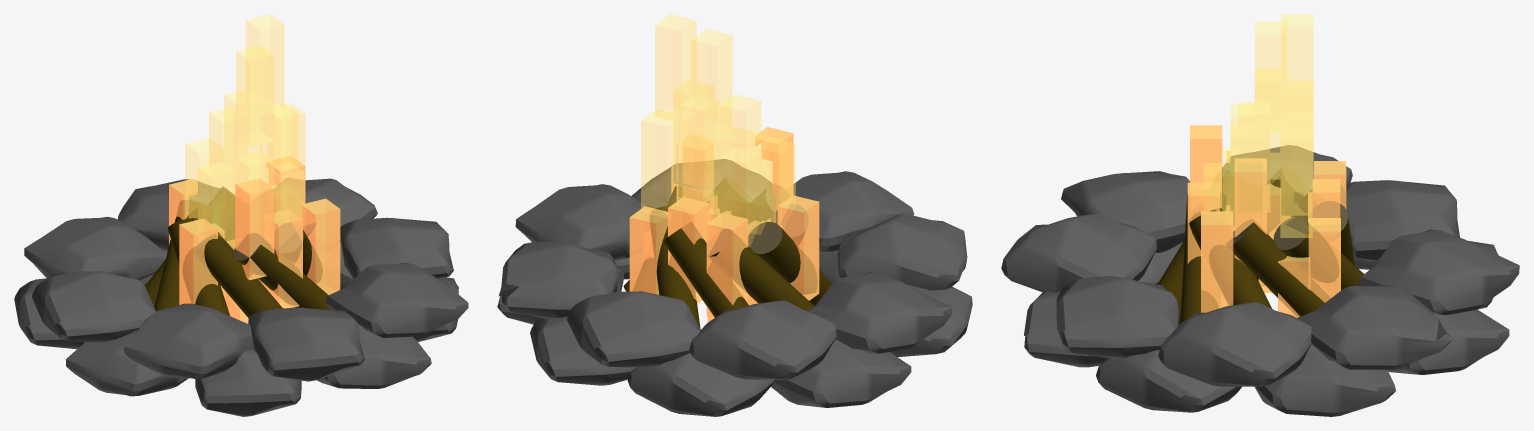
The model's file is campfire.fbx.
3 renders of one model, left to right at view 1: azimuth 30°, elevation 25°; view 2: azimuth 150°, elevation 25°; view 3: azimuth 270°, elevation 25°, orthographic. The views are drawn at different scales.
Visible parts, largest first — view 1: pCube27, pCube26, pCube23, pCube28, pCube25, pCube29, pCube13, pCube21, pCube15, pCube37, pCube30, pCylinder7 (+25 smaller); view 2: pCube25, pCube22, pCube28, pCube26, pCube24, pCube29, pCube19, pCube20, pCube23, pCube32, pCube37, pCube30 (+26 smaller); view 3: pCube29, pCube24, pCube23, pCube27, pCube22, pCube25, pCube26, pCube17, pCube16, pCylinder9, pCube30, pCube38 (+28 smaller).
Boxes of the visible parts, x1=… form: pCube27: x1=325, y1=262, x2=468, y2=337; pCube26: x1=123, y1=303, x2=253, y2=378; pCube23: x1=248, y1=307, x2=364, y2=381; pCube28: x1=32, y1=271, x2=155, y2=342; pCube25: x1=24, y1=216, x2=166, y2=280; pCube29: x1=340, y1=217, x2=453, y2=279; pCube13: x1=195, y1=348, x2=301, y2=416; pCube21: x1=66, y1=330, x2=188, y2=396; pCube15: x1=317, y1=324, x2=431, y2=388; pCube37: x1=236, y1=45, x2=274, y2=146; pCube30: x1=246, y1=14, x2=284, y2=115; pCylinder7: x1=234, y1=233, x2=330, y2=309; pCube25: x1=689, y1=300, x2=836, y2=379; pCube22: x1=567, y1=291, x2=700, y2=367; pCube28: x1=809, y1=272, x2=952, y2=353; pCube26: x1=837, y1=214, x2=967, y2=290; pCube24: x1=501, y1=241, x2=617, y2=318; pCube29: x1=515, y1=184, x2=646, y2=260; pCube19: x1=627, y1=353, x2=773, y2=416; pCube20: x1=771, y1=339, x2=911, y2=407; pCube23: x1=793, y1=171, x2=914, y2=251; pCube32: x1=678, y1=94, x2=719, y2=202; pCube37: x1=691, y1=29, x2=732, y2=137; pCube30: x1=655, y1=14, x2=696, y2=122; pCube29: x1=1158, y1=302, x2=1311, y2=386; pCube24: x1=1297, y1=285, x2=1452, y2=369; pCube23: x1=1001, y1=213, x2=1156, y2=292; pCube27: x1=1056, y1=276, x2=1178, y2=359; pCube22: x1=1358, y1=229, x2=1519, y2=314; pCube25: x1=1346, y1=180, x2=1459, y2=261; pCube26: x1=1061, y1=171, x2=1189, y2=252; pCube17: x1=1254, y1=344, x2=1395, y2=416; pCube16: x1=1096, y1=350, x2=1241, y2=412; pCylinder9: x1=1226, y1=219, x2=1330, y2=317; pCube30: x1=1281, y1=14, x2=1313, y2=124; pCube38: x1=1280, y1=127, x2=1312, y2=237.
Size of the model in its own units: 4.79 by 3.39 by 4.82.
